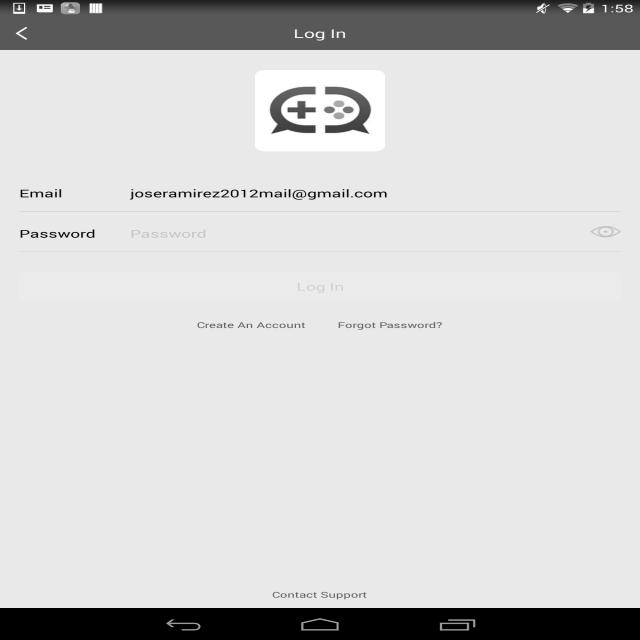Button: (19, 273, 621, 300)
CheckBox: (590, 225, 621, 238)
EditText: (130, 180, 621, 202), (130, 220, 591, 243)
ImageView: (255, 70, 385, 151), (8, 22, 45, 45)
TextView: (272, 581, 367, 608), (19, 220, 130, 243), (19, 180, 130, 202), (191, 316, 311, 334), (332, 316, 448, 334), (293, 25, 346, 41)
